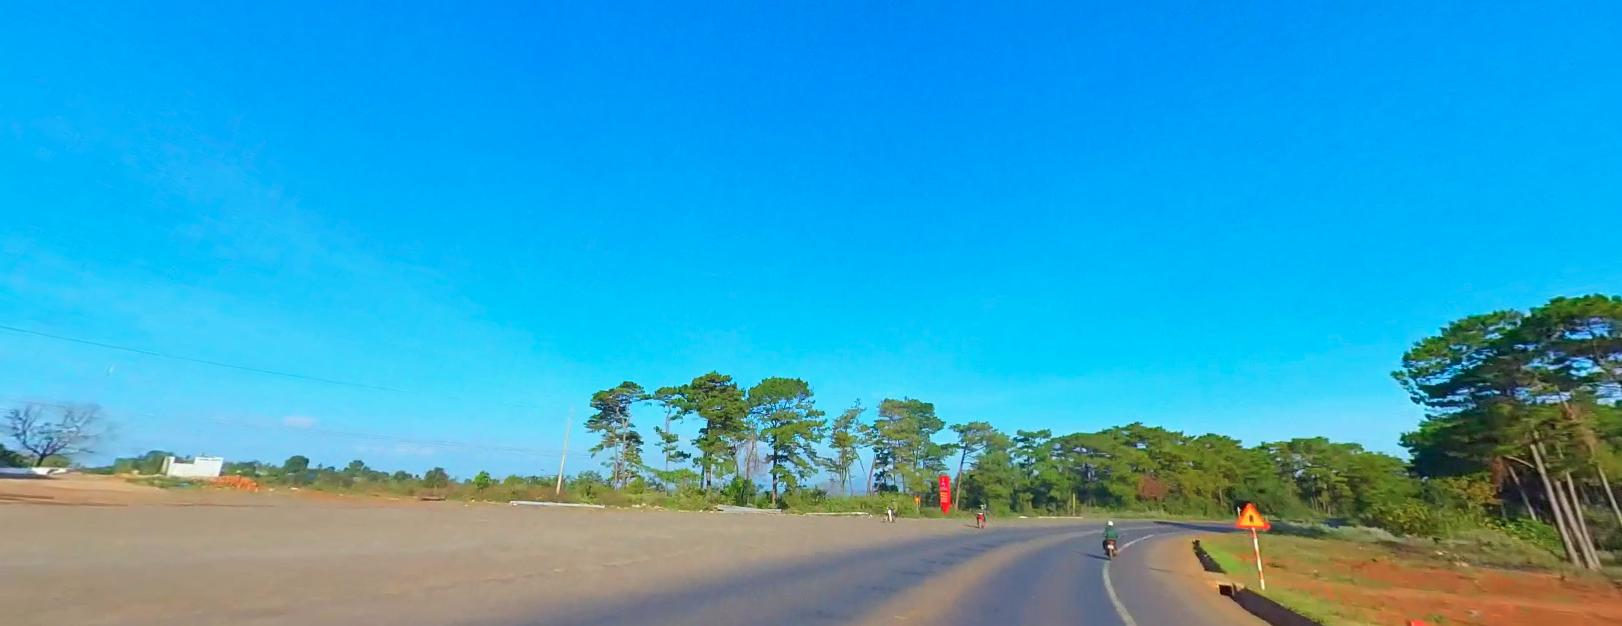Nguy hiem: (1236, 501, 1269, 527)
